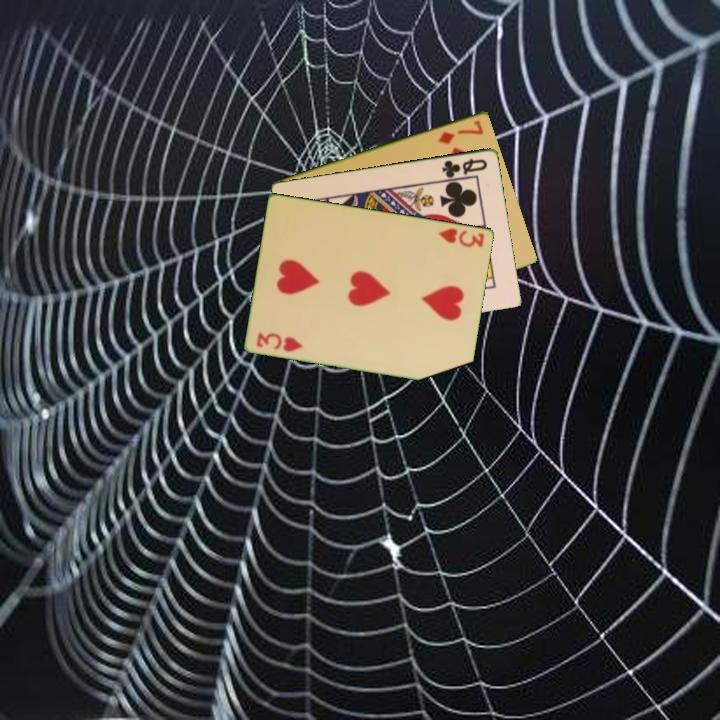3h: (435, 224, 487, 250), (253, 329, 305, 354)
7d: (435, 116, 486, 147)
Qc: (438, 155, 490, 181)
